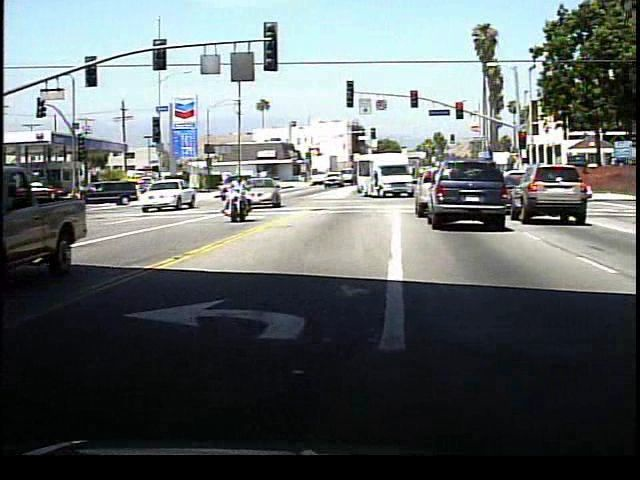person: (225, 176, 253, 225)
